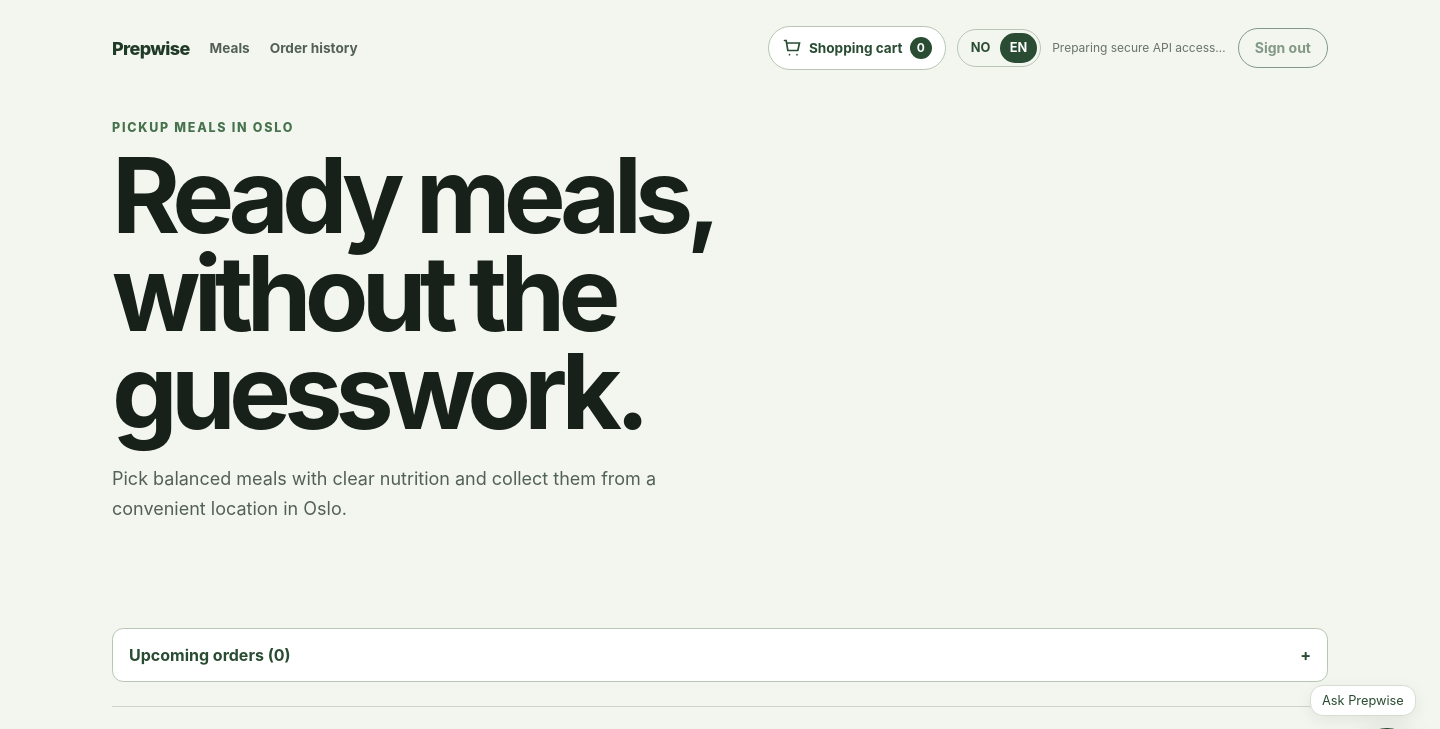
Scenario: customer workflow regressions › does not accept an older cart refresh after a newer refresh
Click the button with aria-label "Open cart (0)": coordinates (857, 48) [768,26,946,70]
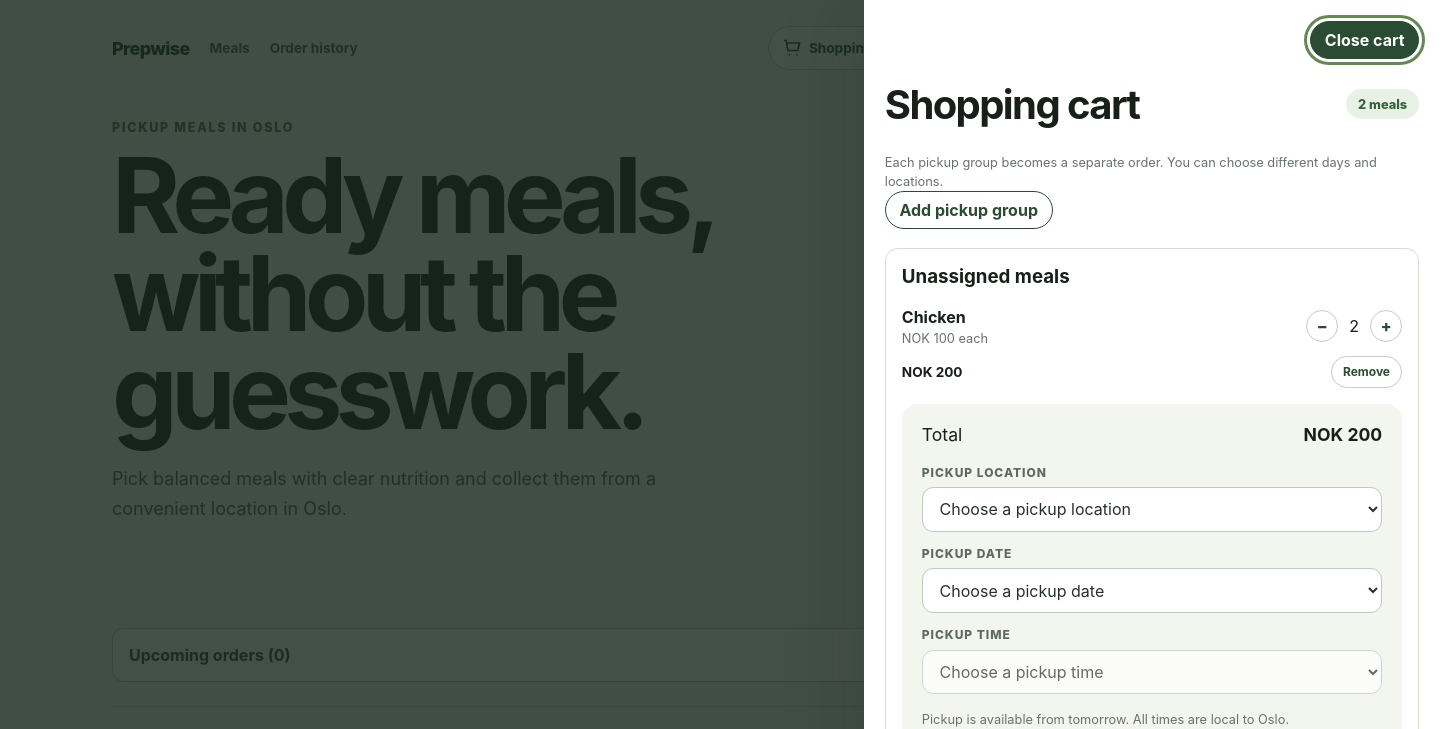
Now the button with aria-label "Open cart (2)" is shown, box [768,26,946,70]
